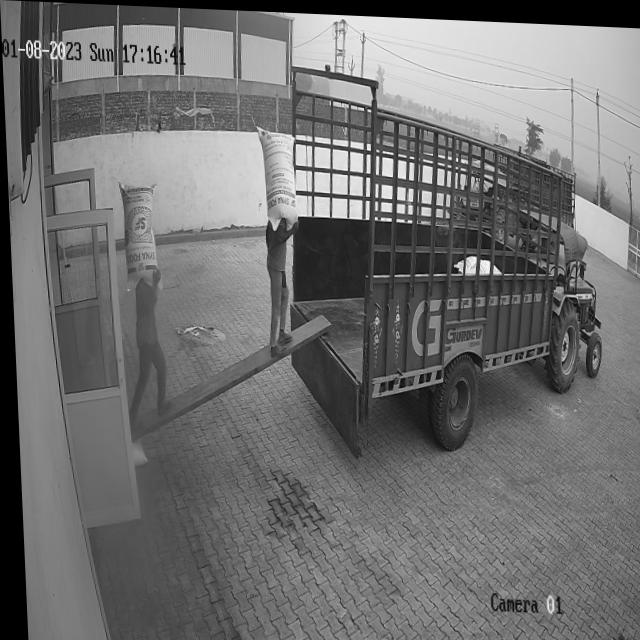sack: (254, 122, 296, 231), (117, 178, 157, 291)
